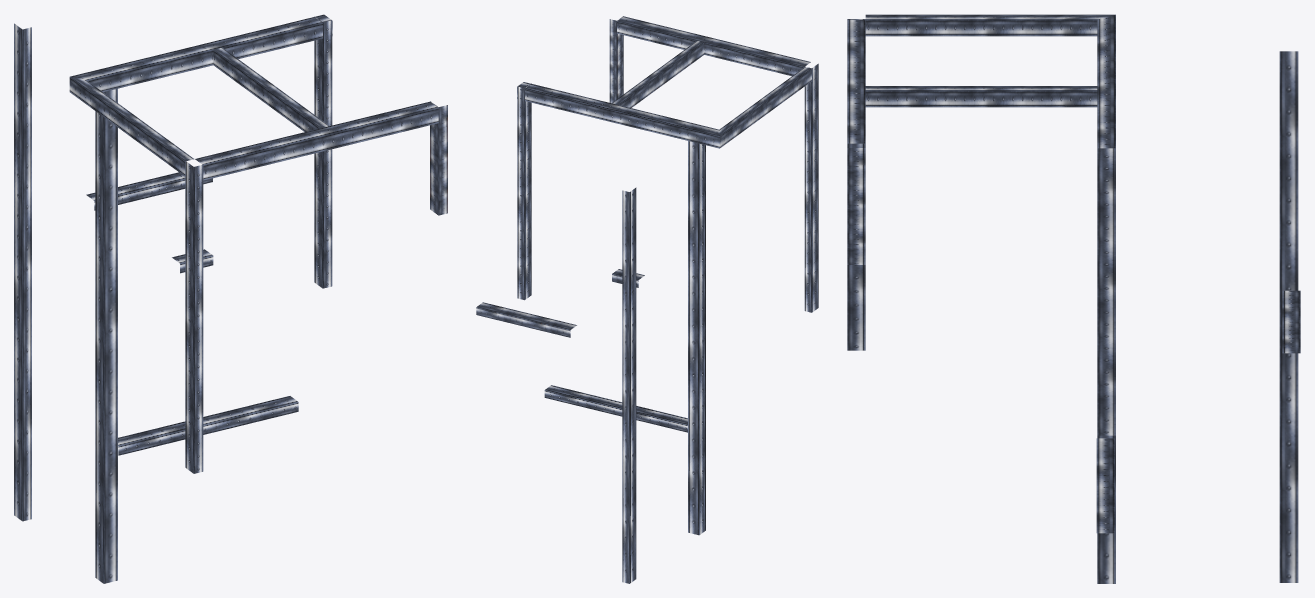
Rendered from platform01.glb.
3 renders of one model, left to right at view 1: azimuth 30°, elevation 25°; view 2: azimuth 150°, elevation 25°; view 3: azimuth 270°, elevation 25°, orthographic. The views are drawn at different scales.
Visible parts, largest first — view 1: platform01; view 2: platform01; view 3: platform01.
Boxes of the visible parts, left/top/right/bottom form: platform01: left=14, top=14, right=447, bottom=583; platform01: left=476, top=16, right=818, bottom=583; platform01: left=847, top=14, right=1300, bottom=583.
Bounding box in the file's own units: 1935 × 3690 × 2761.
Materials: 1 (1 with a texture image).
